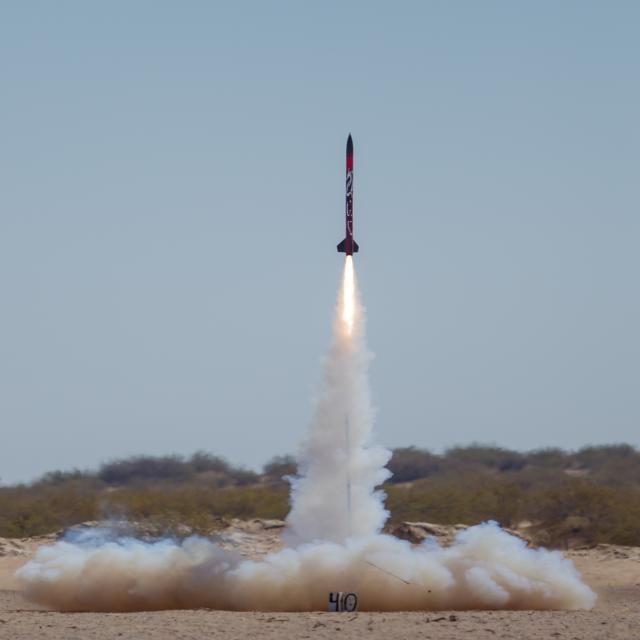Rocket: (337, 132, 360, 258)
